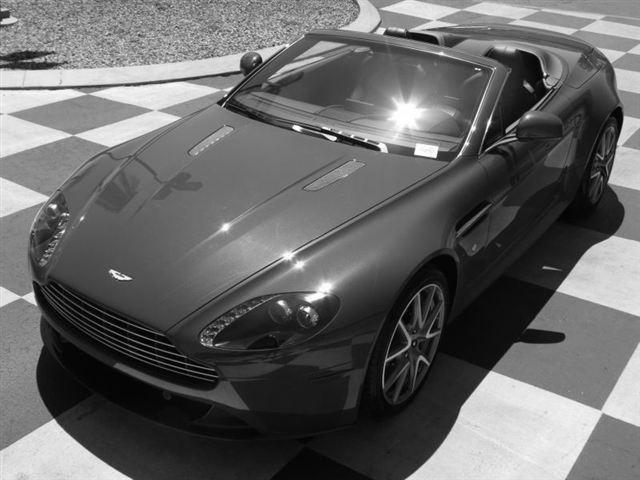car: (27, 21, 626, 433)
